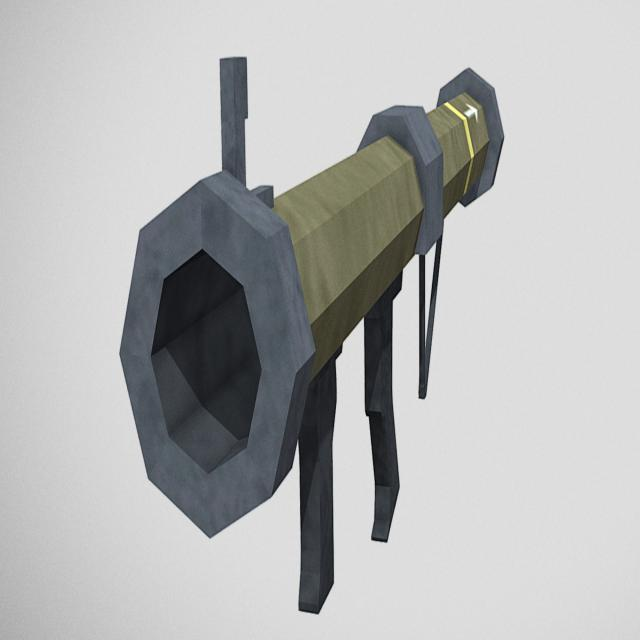bazooka: (113, 56, 504, 547)
